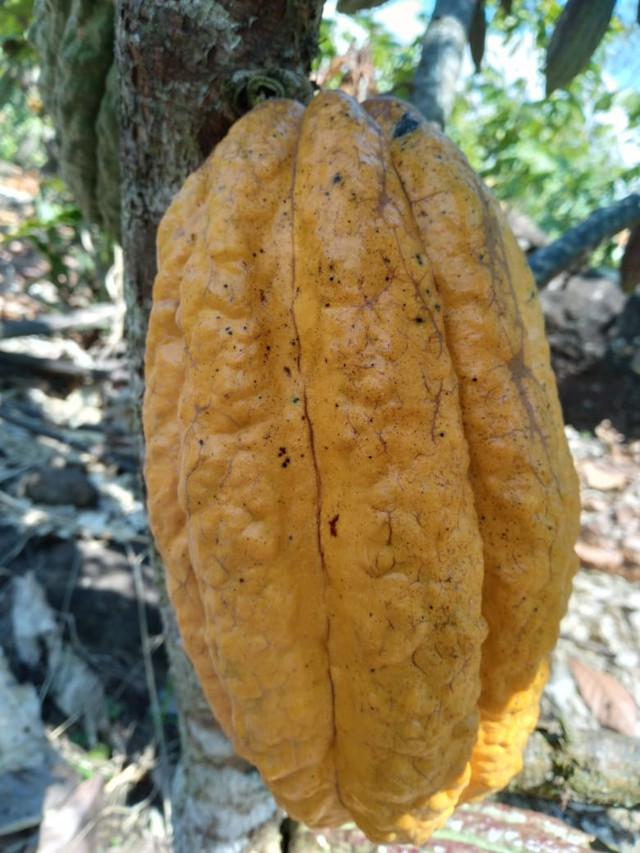Health: (127, 80, 593, 853)
